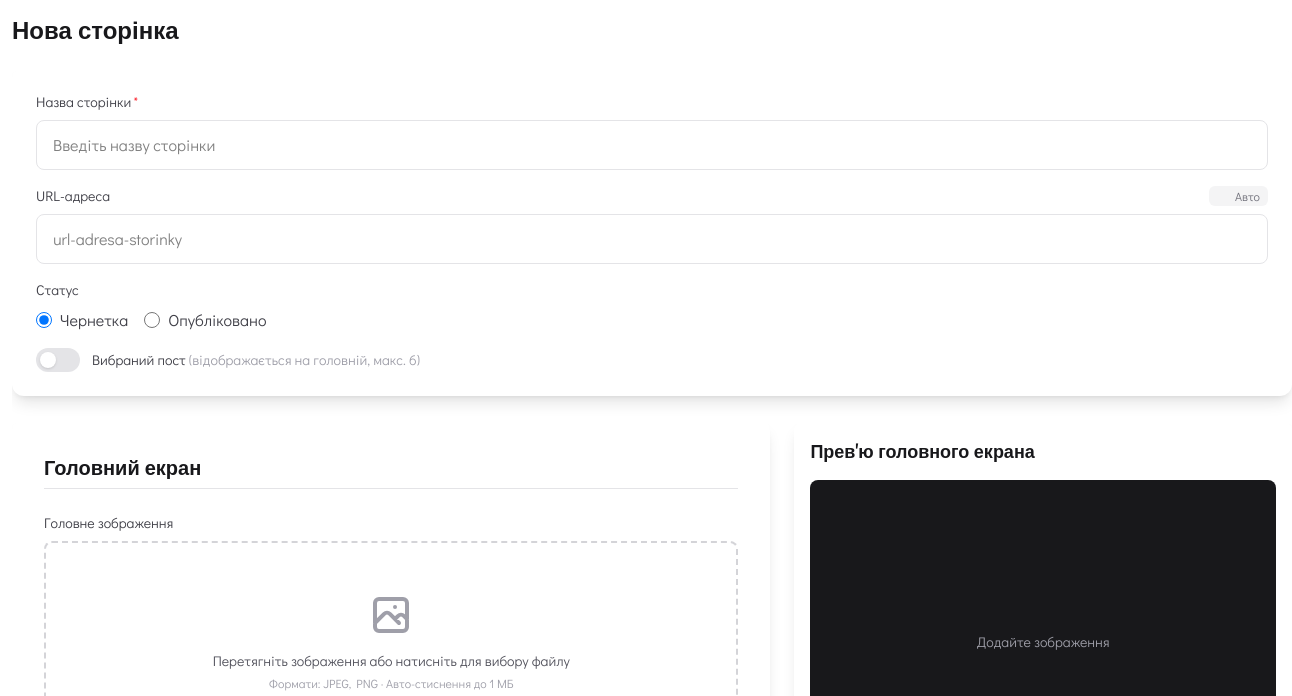
Test: EditPostPage › auto-generates the slug from the title until the slug is manually locked
Type "Новий проєкт" into the field with placeholder "Введіть назву сторінки" at (652,145), box [36,120,1268,170]
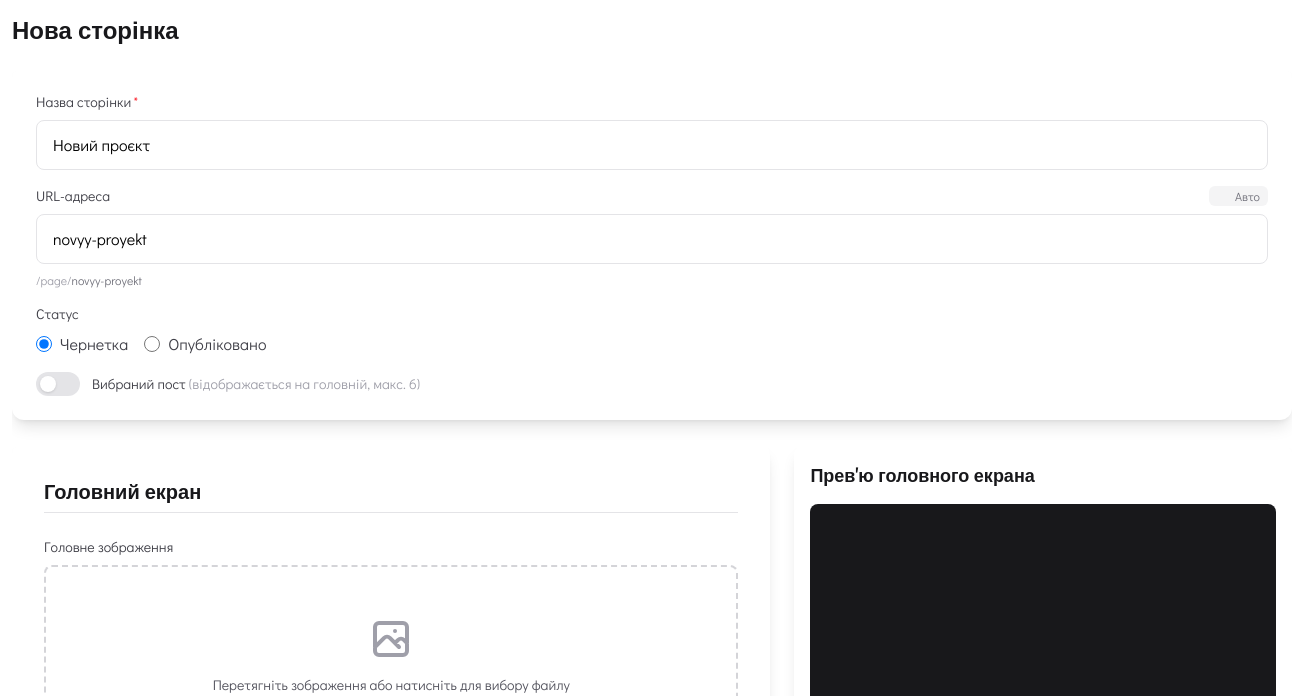
Result: the field with placeholder "url-adresa-storinky" holds "novyy-proyekt" at [36,214,1268,264]
